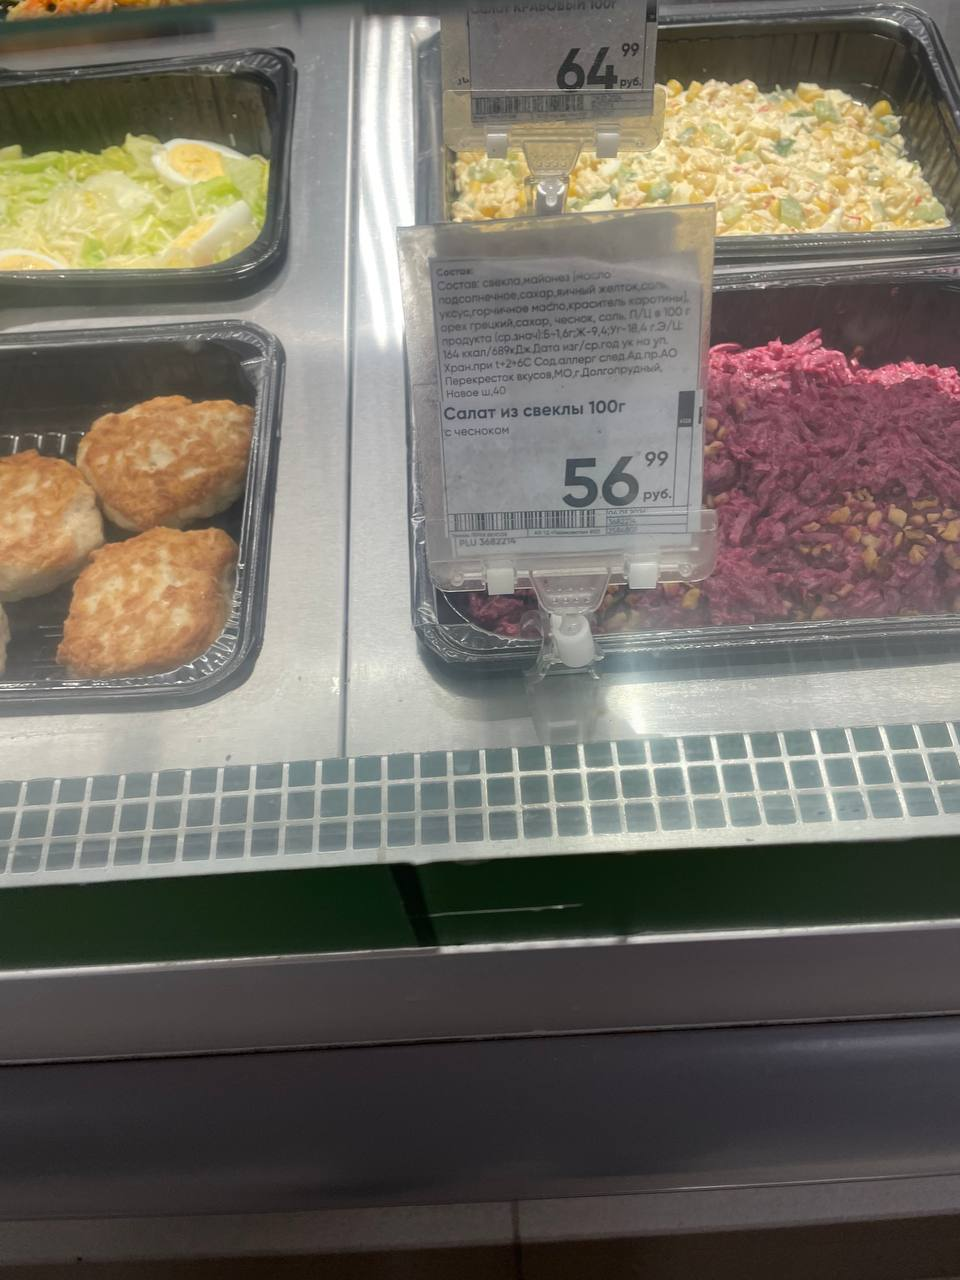1d: (455, 508, 598, 533), (473, 93, 585, 117)
